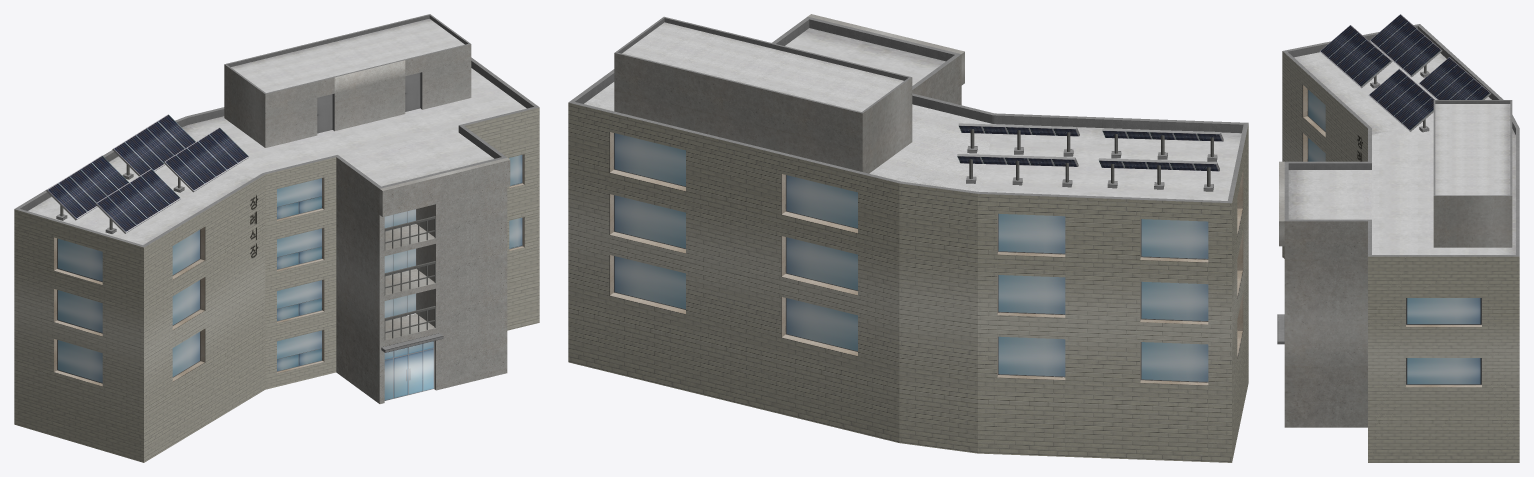
3 renders of one model, left to right at view 1: azimuth 30°, elevation 25°; view 2: azimuth 150°, elevation 25°; view 3: azimuth 270°, elevation 25°, orthographic. The views are drawn at different scales.
Parts seen in each view (by area): view 1: MainBuilding; view 2: MainBuilding; view 3: MainBuilding.
Part boxes in pixels (box(x1,y1,x2,y2)): MainBuilding: box(14, 14, 539, 462); MainBuilding: box(568, 14, 1248, 462); MainBuilding: box(1277, 14, 1519, 462).
Size of the model in its own units: 2.91 by 1.46 by 1.28.
1 material, 1 textured.
